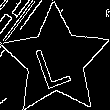L_N: (33, 31, 78, 89)
